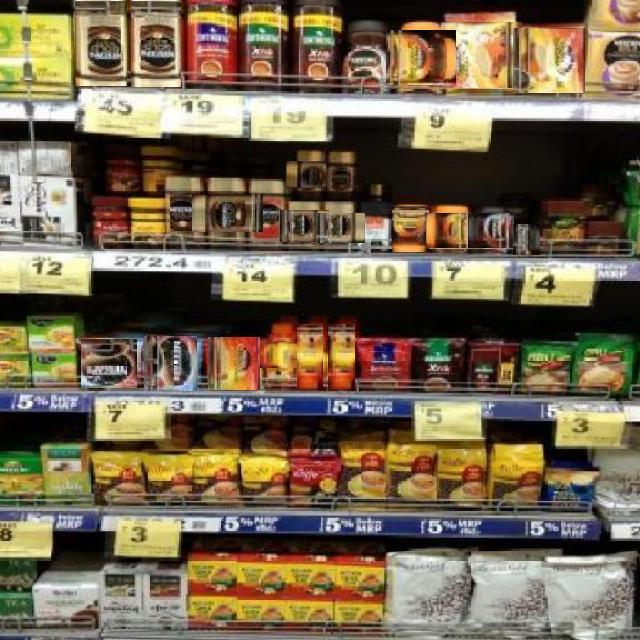Coffee: (442, 22, 522, 88), (512, 28, 585, 93), (74, 0, 127, 86), (130, 0, 181, 87), (385, 31, 456, 85), (342, 19, 393, 93), (144, 336, 197, 391), (80, 338, 137, 388), (208, 337, 260, 390), (192, 194, 263, 232), (166, 177, 202, 249), (328, 323, 355, 390), (391, 206, 429, 252), (297, 323, 323, 390), (426, 212, 474, 248), (468, 212, 514, 248), (250, 342, 313, 368), (279, 210, 329, 242), (316, 213, 365, 243), (328, 152, 355, 201), (286, 161, 333, 188), (512, 224, 540, 255)
